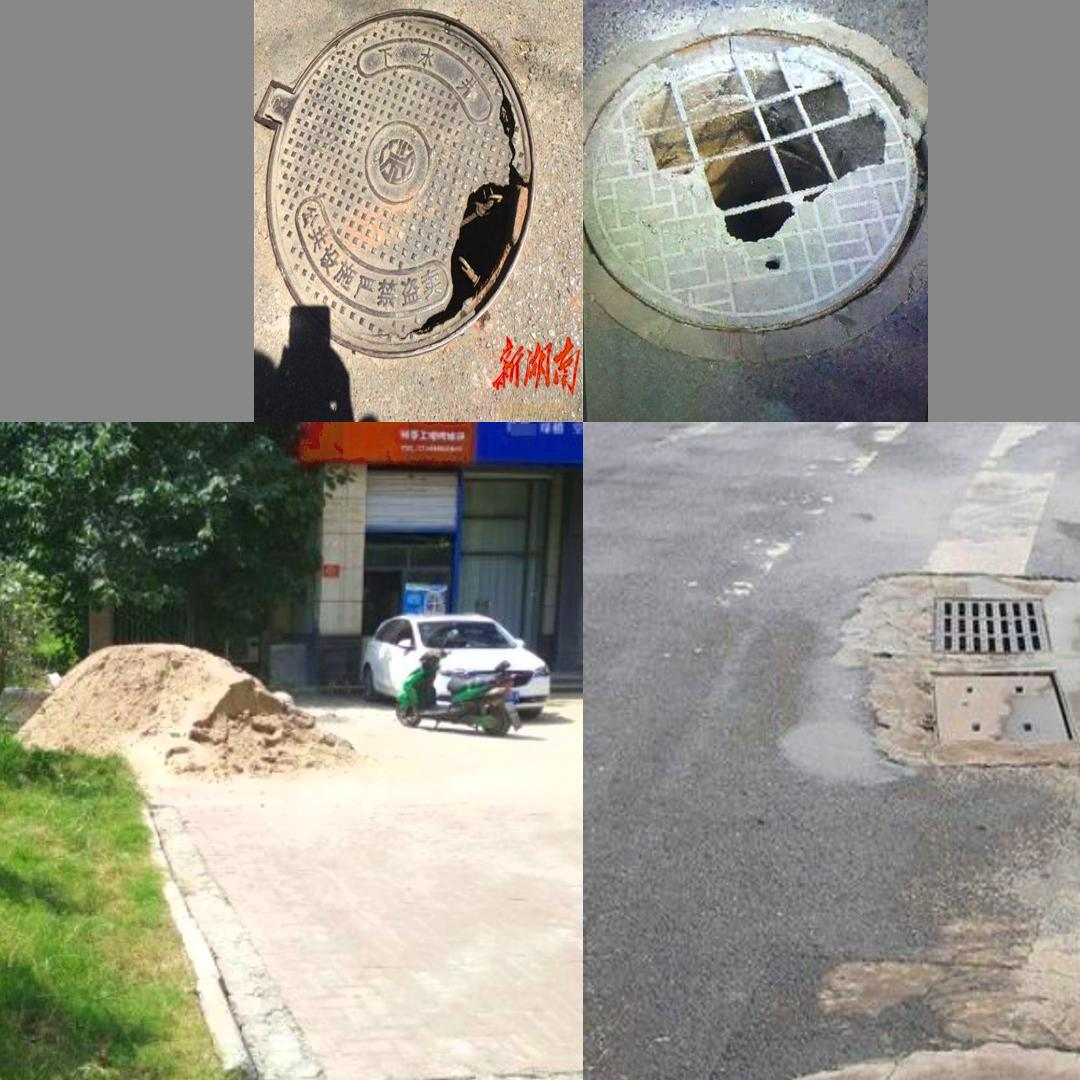broke: (585, 0, 920, 354), (259, 0, 535, 354), (633, 989, 1080, 1080)
